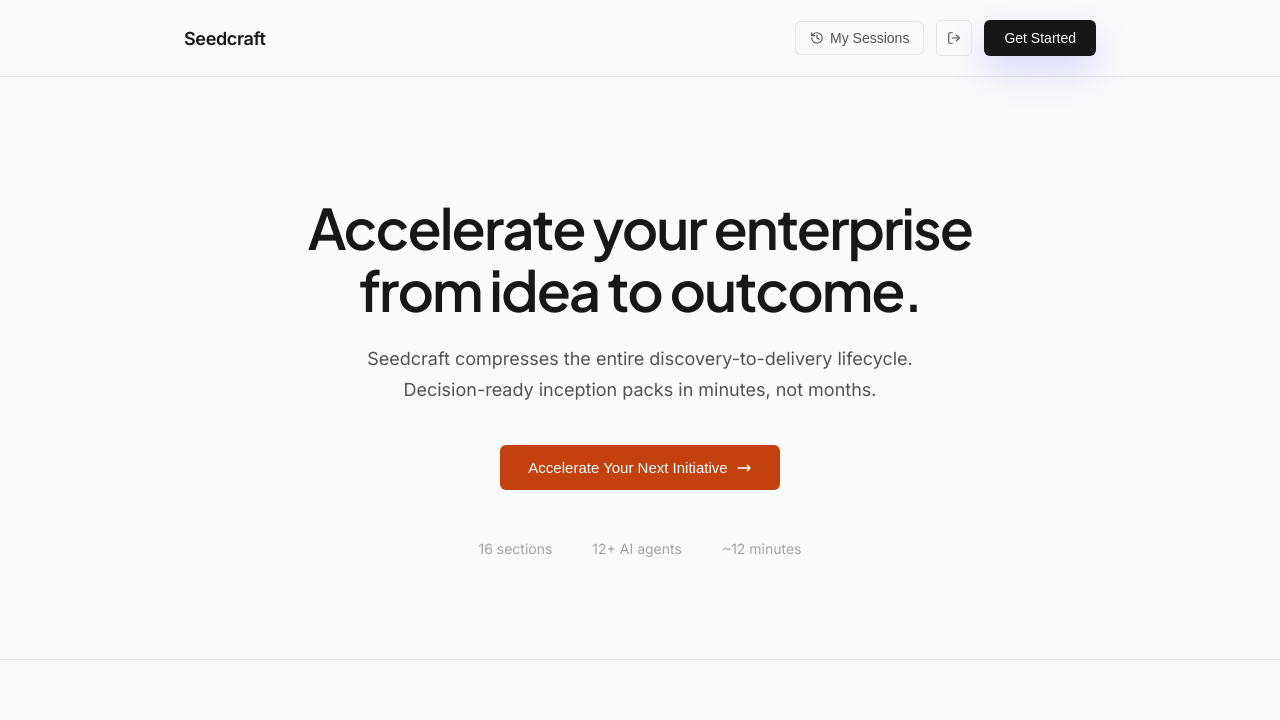
Test case: App – Session History integration › navigates to sessions page when My Sessions is clicked
Click the button "My Sessions" at (860, 38), box [795,21,924,55]
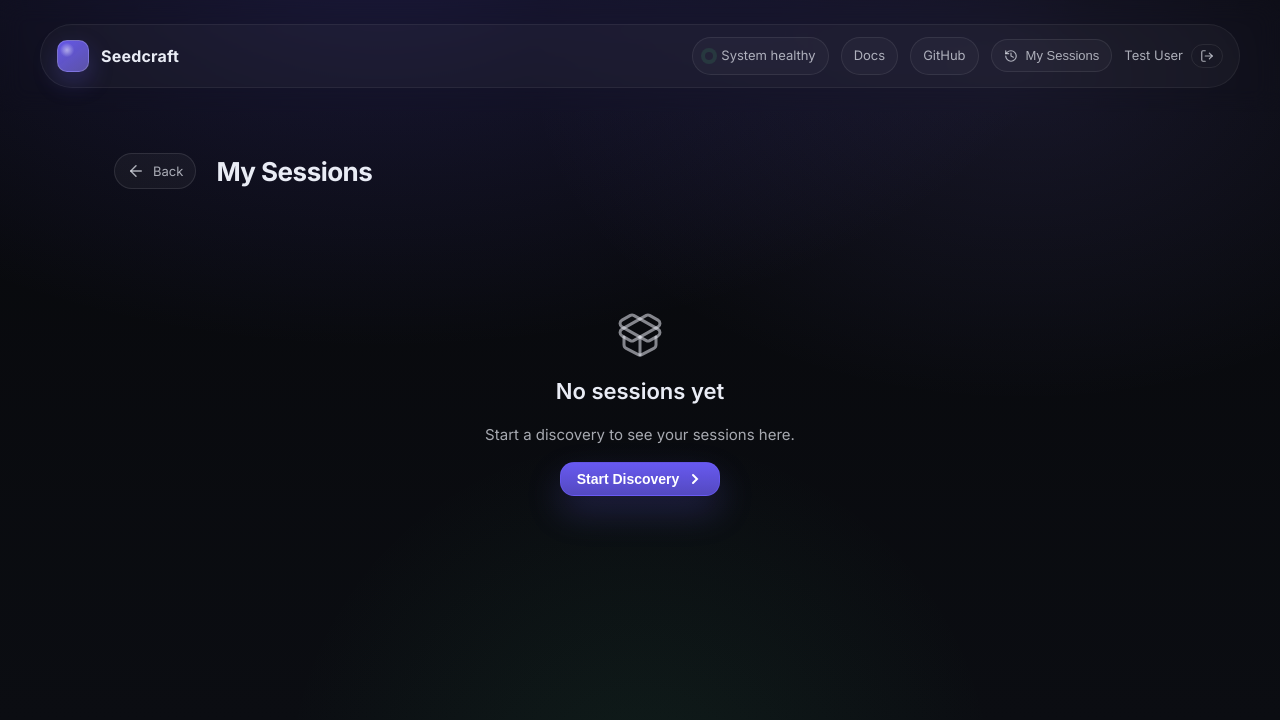
Expected: the text "Seedcraft" is shown, [101,44,179,68]
Expected: the heading "No sessions yet" is shown, [556,374,724,408]
